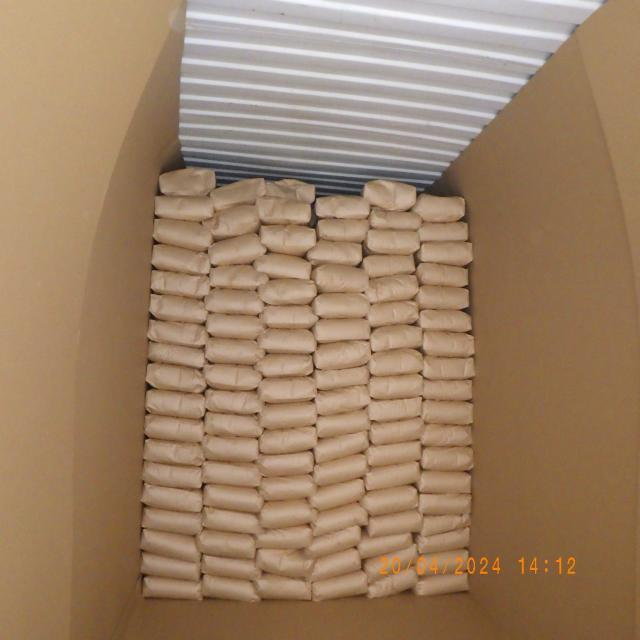gunny_bag: (144, 386, 206, 422), (365, 544, 418, 584), (150, 267, 212, 301), (153, 217, 213, 252), (142, 482, 202, 516), (141, 528, 201, 562), (146, 361, 206, 394), (152, 242, 210, 276), (148, 292, 209, 324), (143, 436, 205, 467), (144, 413, 202, 446), (258, 222, 316, 255), (210, 178, 266, 212), (209, 232, 265, 266), (306, 546, 362, 580), (204, 205, 261, 238), (141, 506, 203, 536), (312, 568, 368, 601), (309, 504, 369, 534), (302, 524, 362, 554), (204, 458, 262, 489), (205, 287, 264, 317), (142, 461, 202, 490), (254, 547, 316, 575), (314, 338, 371, 368), (368, 565, 418, 599), (158, 167, 216, 196), (259, 426, 317, 455), (203, 363, 263, 391), (203, 484, 263, 512), (200, 530, 256, 560), (258, 278, 318, 306), (260, 474, 316, 504), (140, 554, 202, 581), (147, 340, 206, 368), (203, 388, 262, 416), (317, 452, 367, 485), (415, 548, 470, 578), (202, 506, 260, 534), (201, 573, 257, 602), (258, 329, 318, 356), (362, 274, 416, 304), (315, 431, 367, 462), (142, 575, 200, 602), (154, 194, 214, 220), (204, 313, 264, 339), (204, 338, 264, 364), (252, 253, 312, 279), (257, 402, 317, 428), (258, 500, 318, 526), (414, 192, 466, 222), (148, 320, 210, 345), (256, 574, 312, 601), (314, 264, 370, 291), (311, 480, 367, 507), (370, 417, 426, 444), (201, 554, 259, 580), (258, 196, 310, 225), (204, 413, 264, 438), (312, 317, 372, 342), (366, 178, 416, 208), (364, 462, 419, 489), (359, 532, 414, 559), (364, 486, 417, 514), (257, 352, 314, 378), (314, 387, 368, 414), (368, 324, 422, 351), (202, 436, 258, 462), (260, 304, 316, 330), (256, 524, 312, 550), (369, 349, 422, 376), (416, 262, 471, 288), (258, 377, 315, 402), (316, 218, 370, 244), (366, 228, 420, 254), (362, 252, 416, 278), (422, 422, 474, 449), (416, 528, 470, 554), (414, 572, 468, 598), (258, 452, 314, 477), (314, 293, 372, 317), (312, 364, 370, 388), (366, 374, 424, 398), (368, 204, 421, 230), (369, 396, 422, 422), (368, 441, 420, 467), (418, 512, 472, 537), (314, 194, 370, 218), (208, 266, 266, 289), (418, 286, 469, 312), (421, 468, 472, 494), (304, 241, 364, 263), (420, 448, 475, 472), (420, 241, 472, 266), (368, 512, 423, 535), (317, 412, 369, 436), (368, 302, 420, 326), (424, 356, 476, 380), (422, 400, 474, 424), (419, 492, 474, 514), (422, 378, 472, 402), (422, 332, 474, 355), (418, 308, 472, 330), (264, 178, 316, 198), (420, 222, 468, 242)
